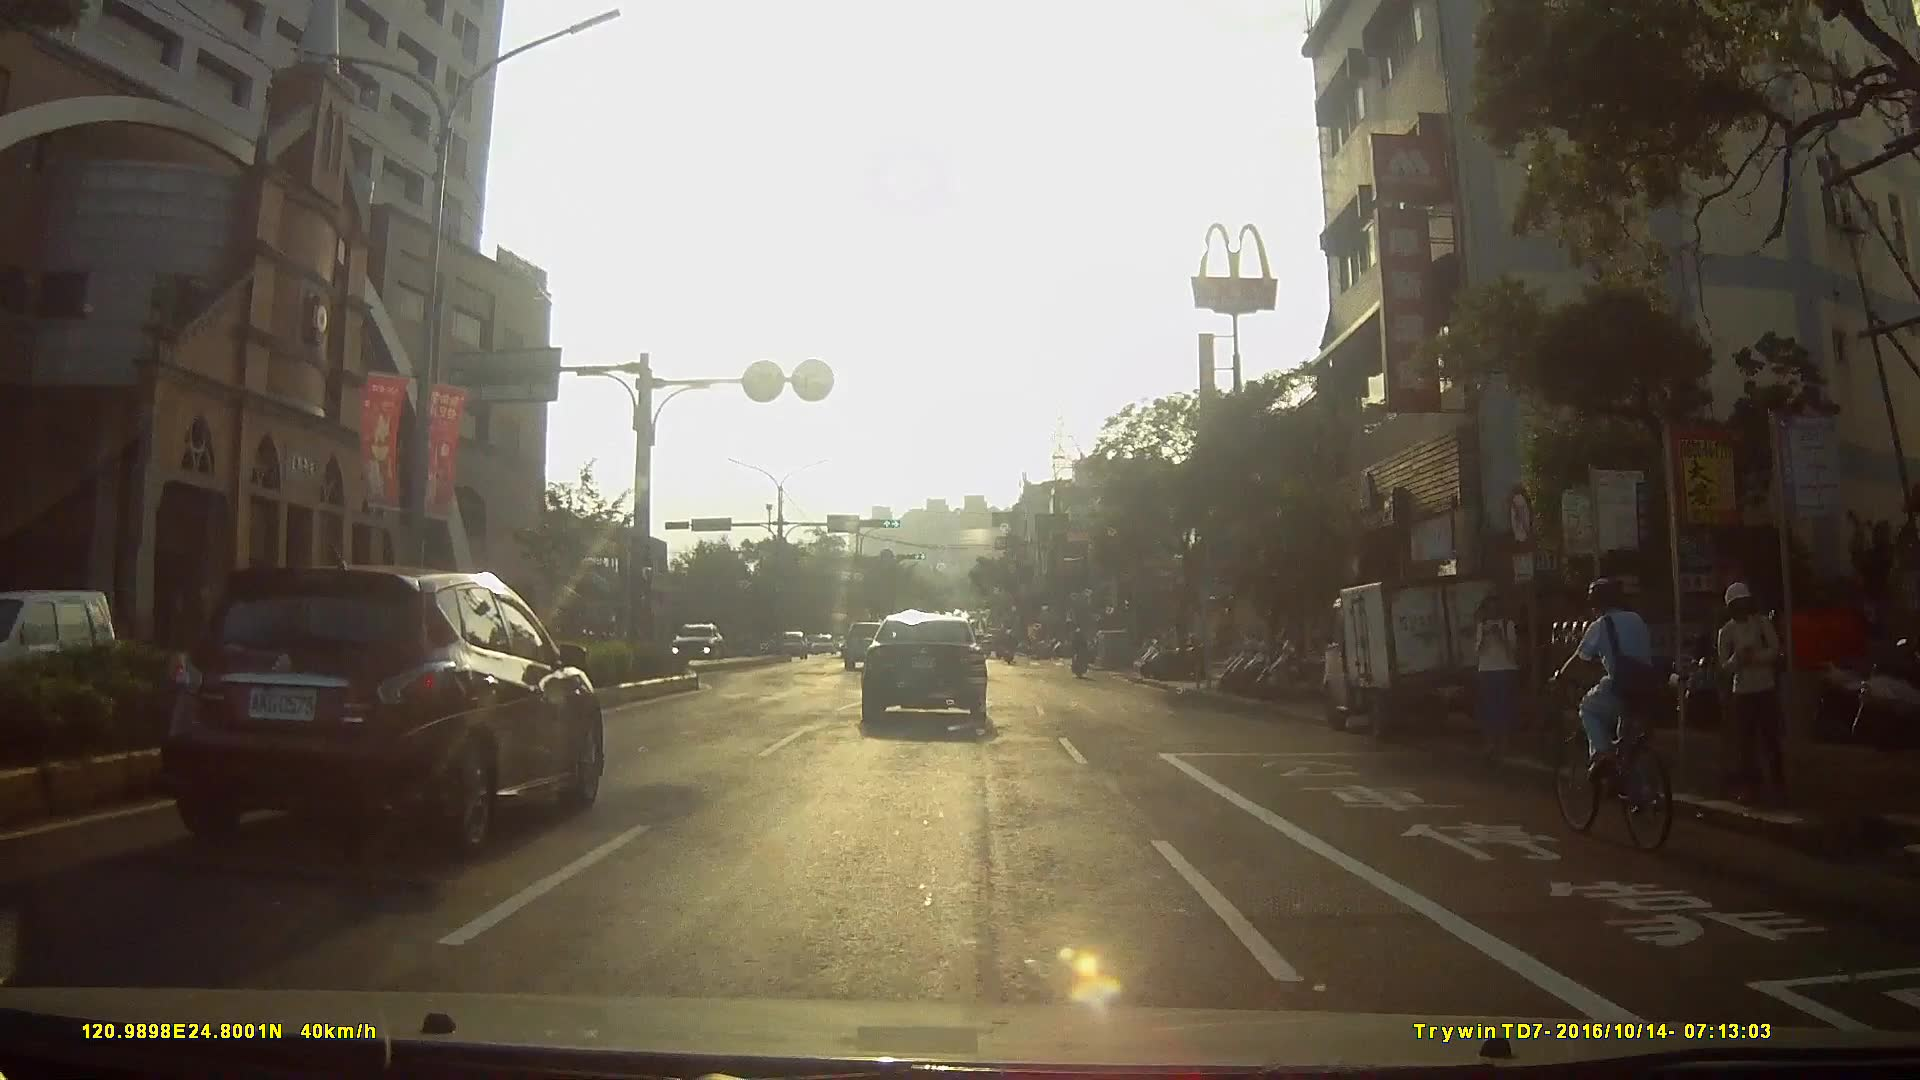pedestrian: (1716, 579, 1788, 805), (1599, 579, 1666, 801), (1468, 591, 1522, 765)
rider: (1545, 572, 1682, 859), (1069, 625, 1095, 685)
vehicle: (142, 561, 620, 855), (1309, 563, 1528, 753), (861, 611, 1005, 736), (837, 616, 896, 671), (661, 622, 725, 669), (761, 629, 800, 664)
